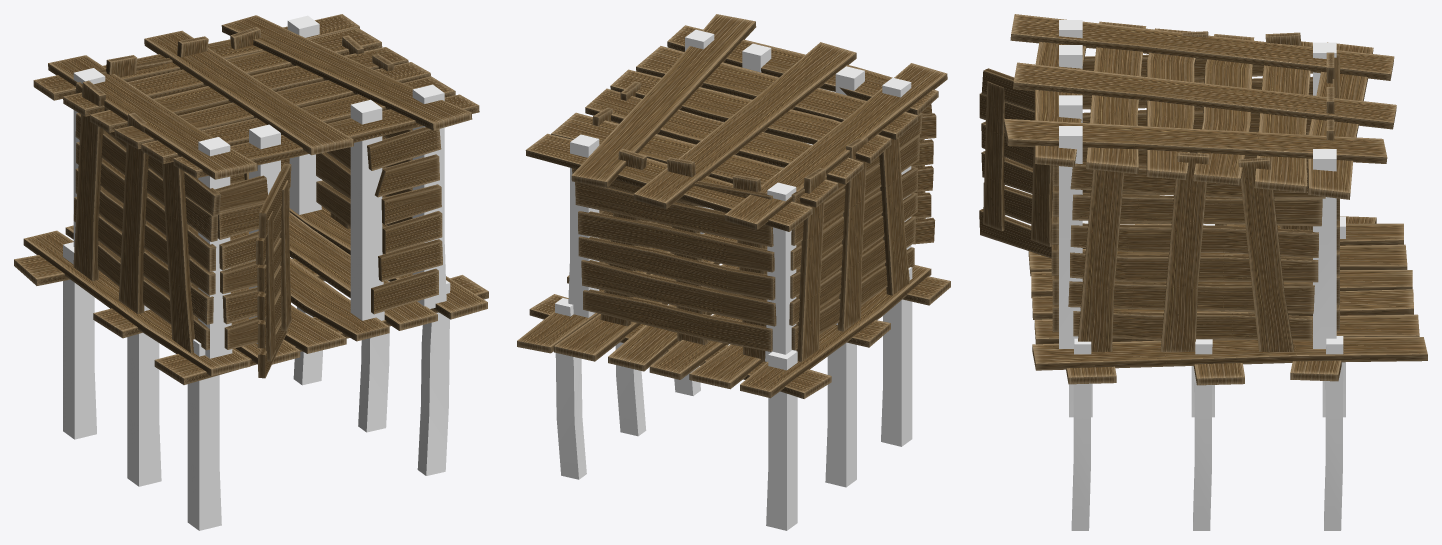
The model's file is shack4.fbx.
The picture shows the model from 3 angles, left to right: view 1: azimuth 30°, elevation 25°; view 2: azimuth 150°, elevation 25°; view 3: azimuth 270°, elevation 25°; orthographic projection. The views are drawn at different scales.
Parts seen in each view (by area): view 1: Default_Layer; view 2: Default_Layer; view 3: Default_Layer.
Boxes of the visible parts, x1=… form: Default_Layer: x1=14, y1=14, x2=488, y2=530; Default_Layer: x1=517, y1=14, x2=950, y2=530; Default_Layer: x1=979, y1=14, x2=1427, y2=530.
Size of the model in its own units: 390 by 437 by 454.
